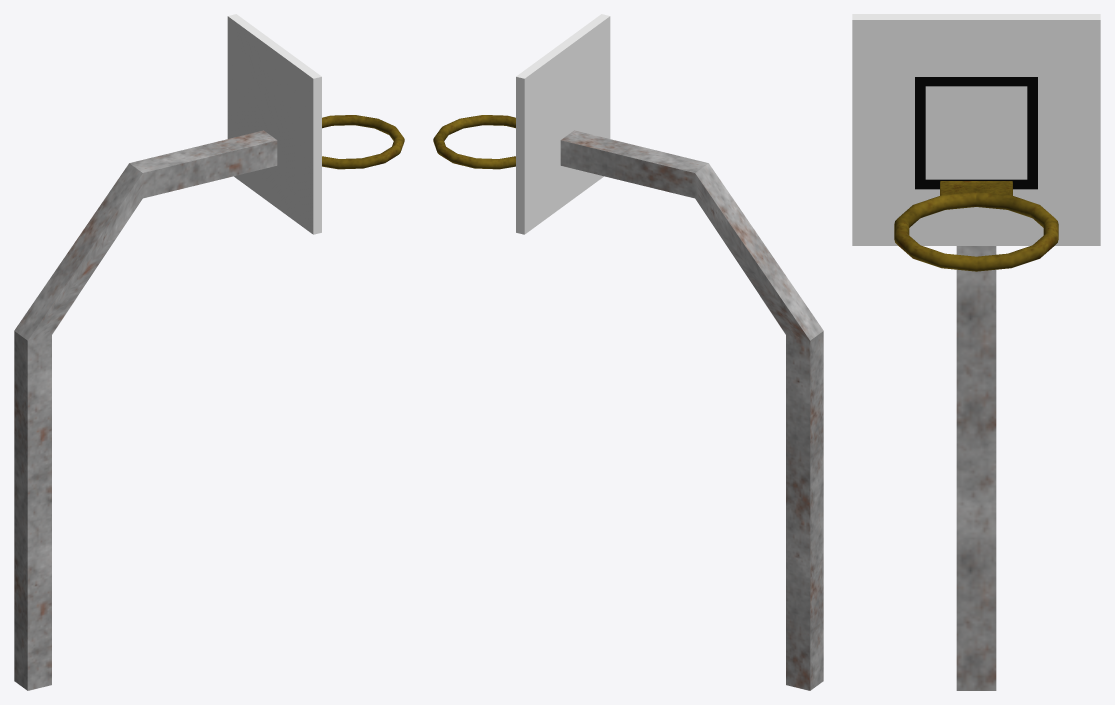
Rendered from basketball_hoop.fbx.
The picture shows the model from 3 angles, left to right: view 1: azimuth 30°, elevation 25°; view 2: azimuth 150°, elevation 25°; view 3: azimuth 270°, elevation 25°; orthographic projection. The views are drawn at different scales.
Visible parts, largest first — view 1: basketball_hoop; view 2: basketball_hoop; view 3: basketball_hoop.
Part boxes in pixels (left/top/right/bottom): basketball_hoop: left=14, top=14, right=404, bottom=690; basketball_hoop: left=433, top=14, right=823, bottom=690; basketball_hoop: left=852, top=14, right=1100, bottom=690.
Bounding box in the file's own units: 301 × 442 × 119.
Materials: 1 (1 with a texture image).
